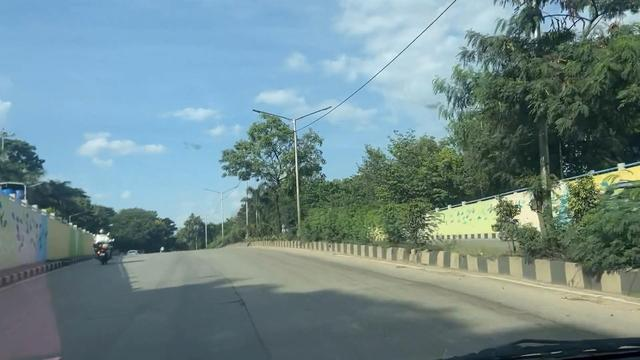LMV: (93, 230, 114, 262)
RoadDamages: (221, 265, 273, 360)
